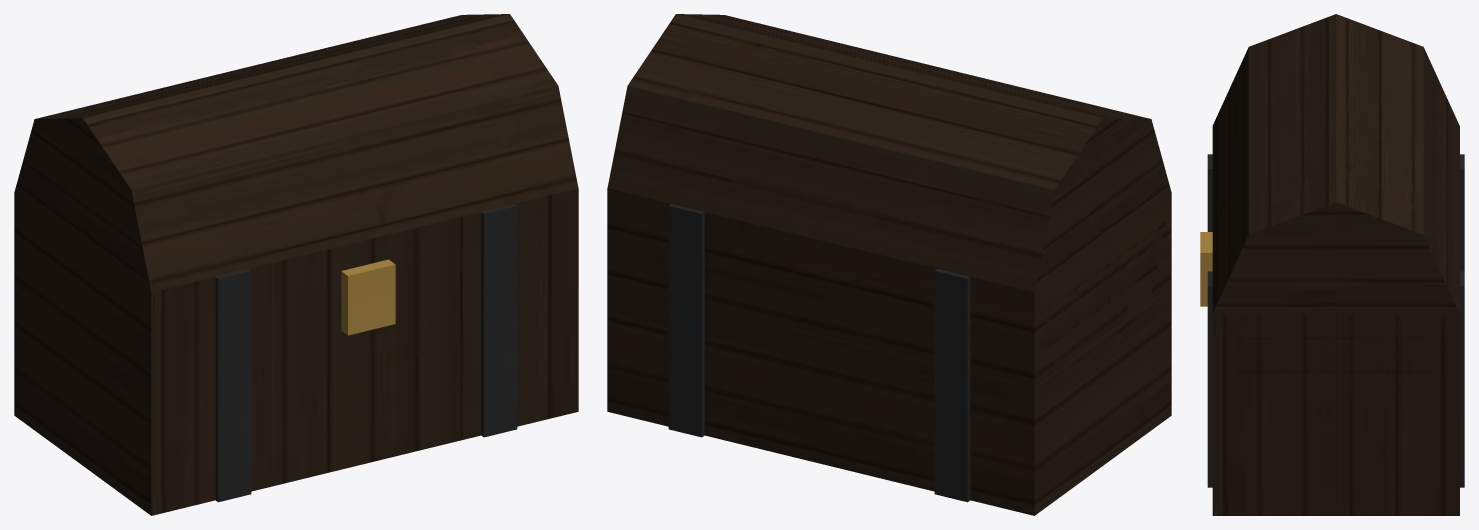
Rendered from trunk_01.glb.
The picture shows the model from 3 angles, left to right: view 1: azimuth 30°, elevation 25°; view 2: azimuth 150°, elevation 25°; view 3: azimuth 270°, elevation 25°; orthographic projection. The views are drawn at different scales.
Parts seen in each view (by area): view 1: trunk_01; view 2: trunk_01; view 3: trunk_01.
Boxes of the visible parts, left/top/right/bottom form: trunk_01: left=14, top=14, right=578, bottom=515; trunk_01: left=607, top=14, right=1171, bottom=515; trunk_01: left=1200, top=14, right=1464, bottom=515.
Bounding box in the file's own units: 0.9 × 0.7 × 0.535.
3 materials, 3 textured.
